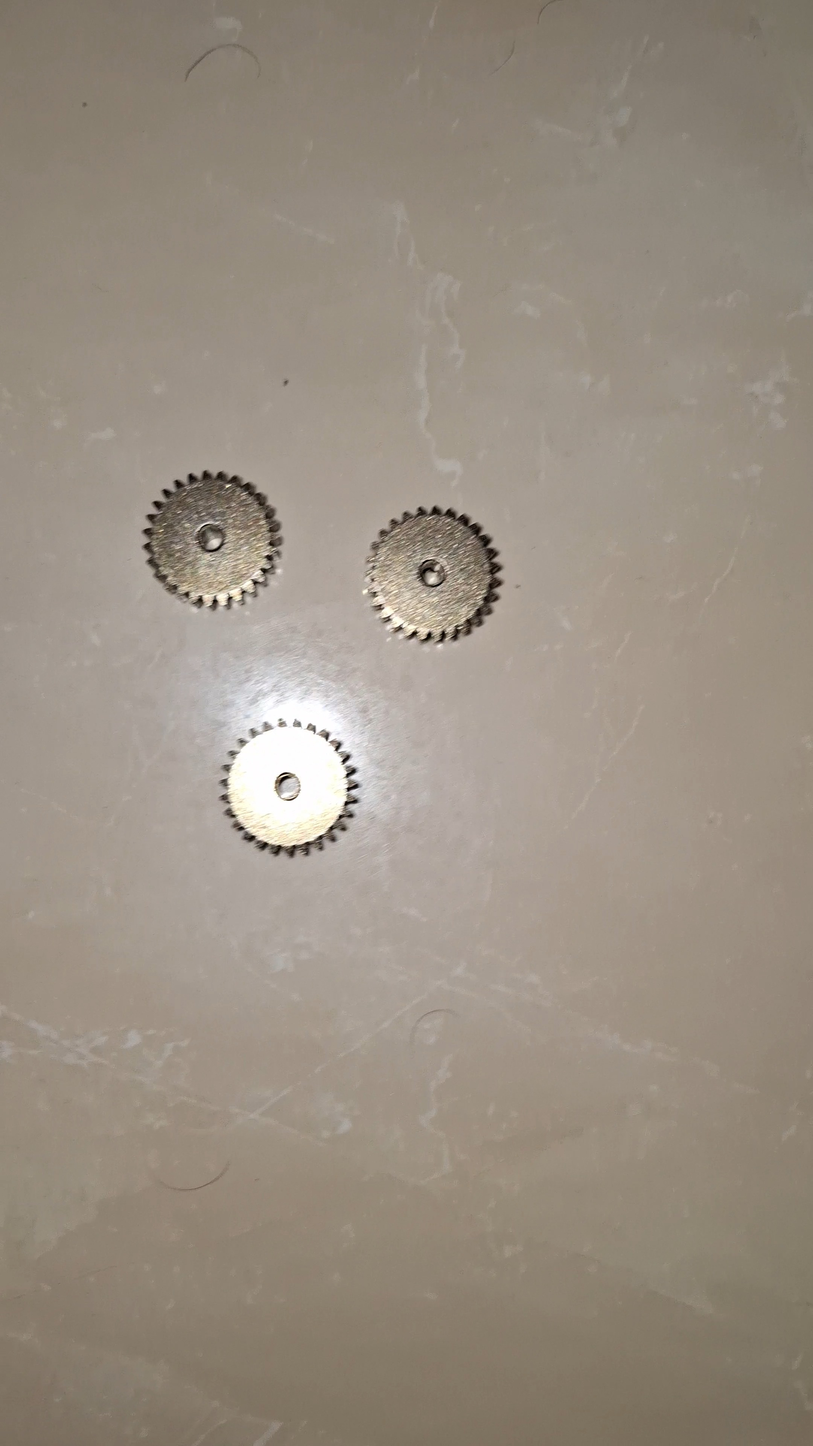spur gear: (221, 720, 356, 855), (145, 472, 280, 606), (365, 507, 499, 641)
